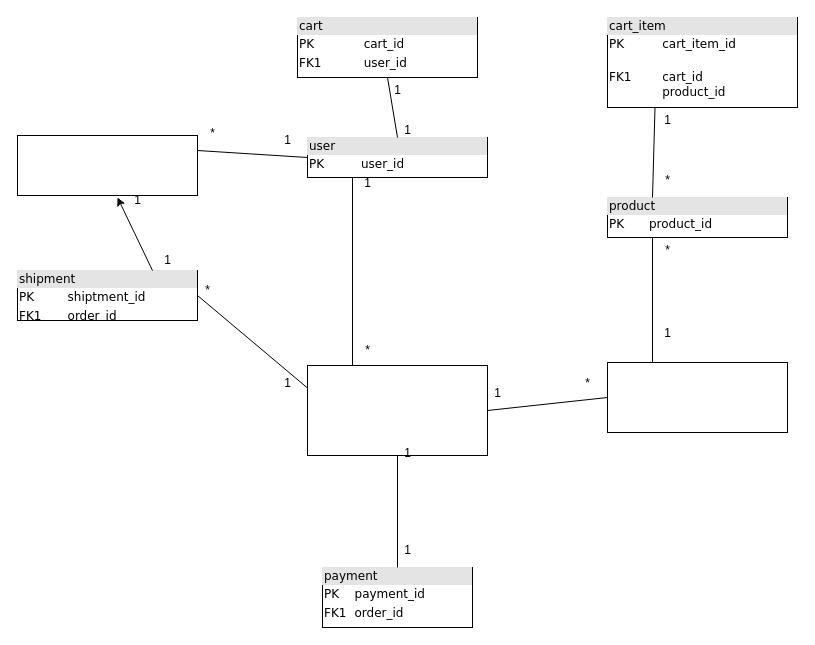
This 815x645 diagram has some shape labels left out. Each missing label, with the box of its shape:
address PK address_id FK1 user_id: (16, 134, 198, 196)
order PK order_id FK1 user_id payment_id shipment_id: (306, 364, 488, 456)
order_item PK order_item_id FK1 order_id product_id: (606, 362, 788, 432)
